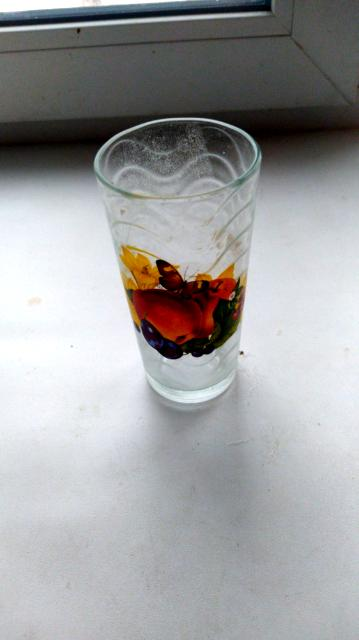Cup: (95, 119, 260, 402)
